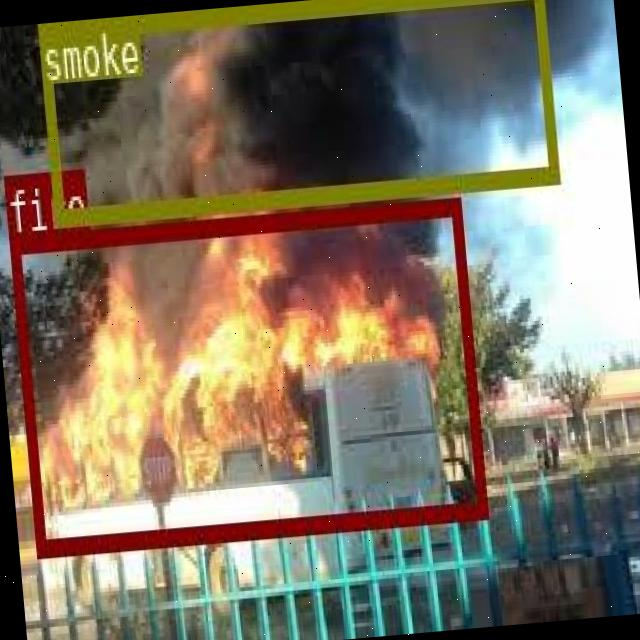fire: (8, 194, 486, 552)
smoke: (36, 0, 556, 220)
